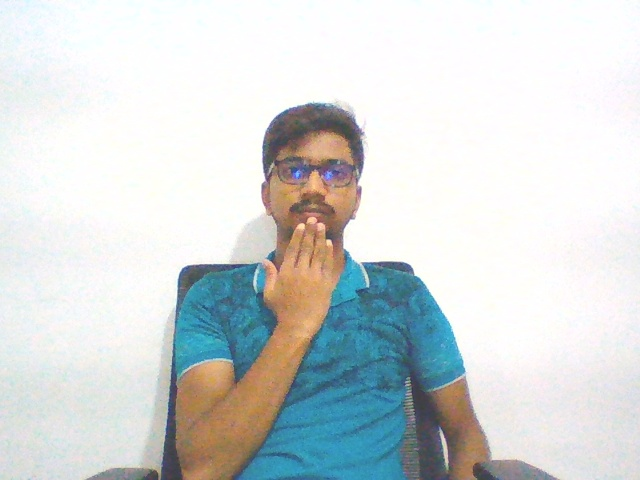mango: (252, 204, 345, 347)
